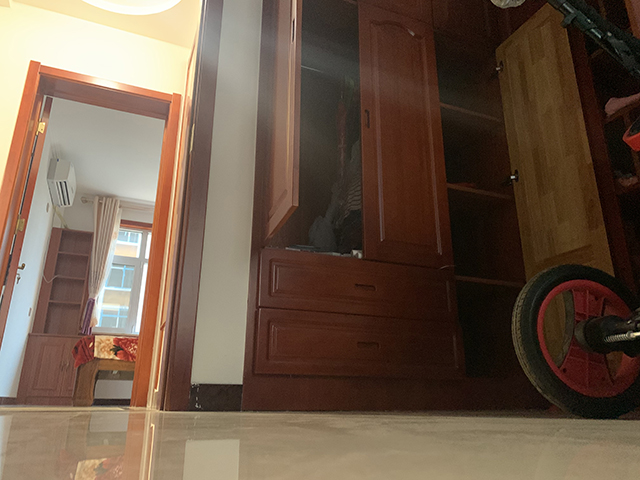bed: (70, 332, 139, 406)
cabinet: (241, 195, 529, 413), (16, 324, 78, 406)
